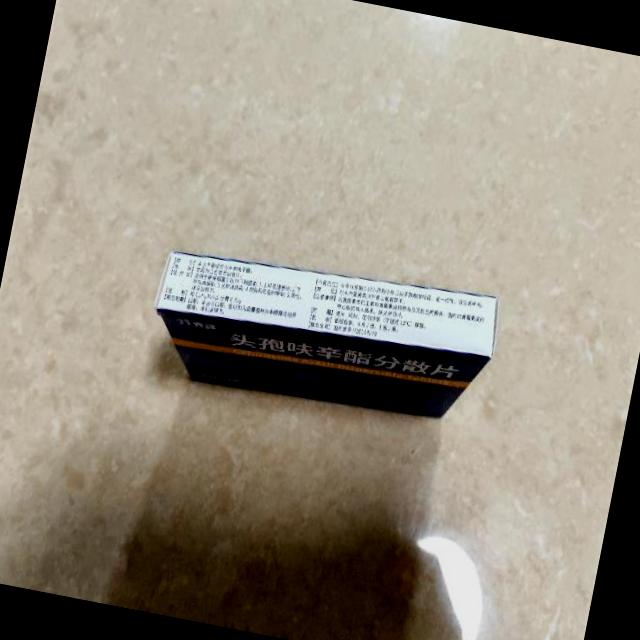box: (142, 232, 504, 436)
